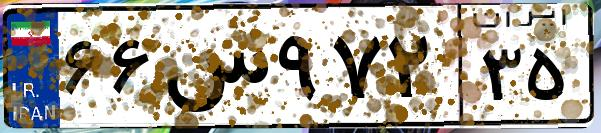2: (385, 28, 445, 110)
3: (475, 38, 525, 113)
5: (525, 38, 570, 115)
6: (57, 26, 110, 100), (110, 28, 158, 98)
7: (330, 28, 385, 110)
9: (270, 28, 330, 110)
س: (158, 20, 270, 120)
